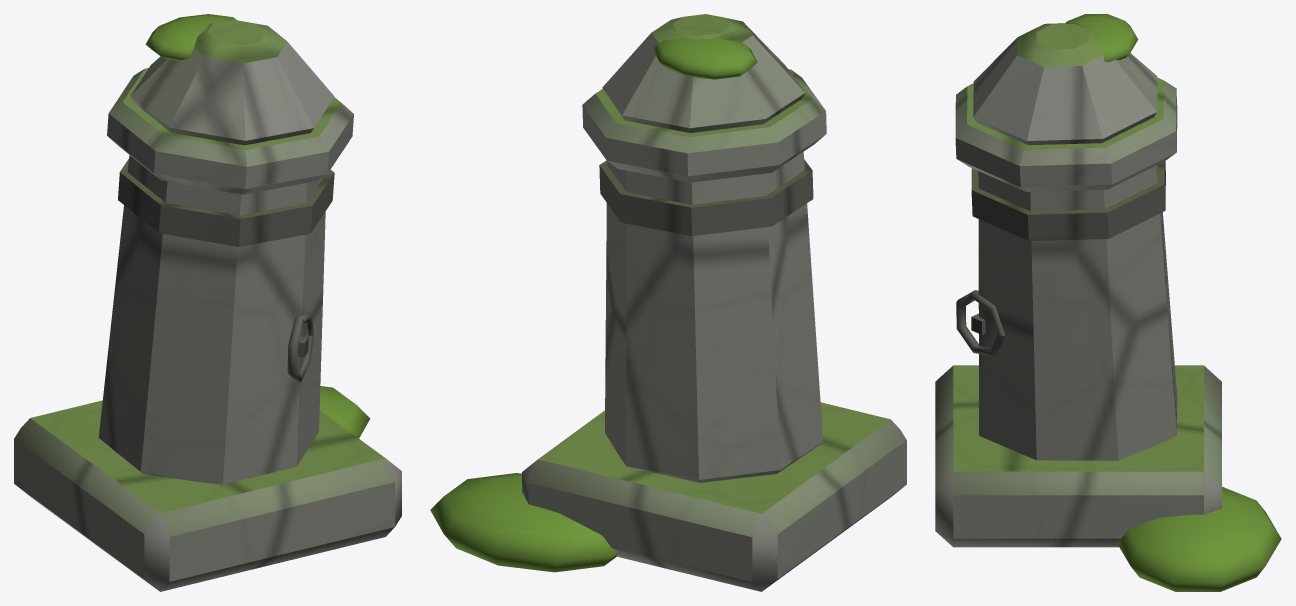
File: stone_bollard.glb
3 views of the same model, side by side, from view 1: azimuth 30°, elevation 25°; view 2: azimuth 150°, elevation 25°; view 3: azimuth 270°, elevation 25° (orthographic). The views are drawn at different scales.
Parts seen in each view (by area): view 1: stone_bollard; view 2: stone_bollard; view 3: stone_bollard.
Boxes of the visible parts, box(x1,y1,x2,y2) form: stone_bollard: box(14, 14, 401, 591); stone_bollard: box(430, 14, 906, 591); stone_bollard: box(935, 14, 1281, 591).
Size of the model in its own units: 0.6331 by 0.9025 by 0.58.
Materials: 3 (3 with a texture image).
